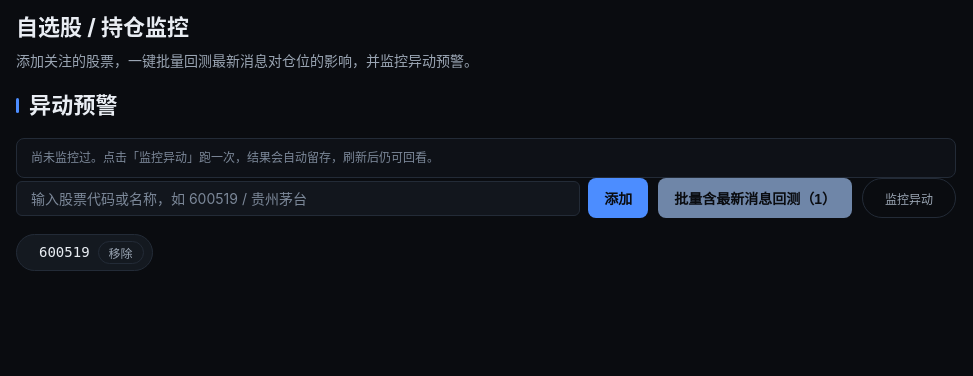
WatchlistPage 添加与移除 › 移除失败：横幅说明是「移除」失败、无重试按钮，清单保持原样
This screenshot has width=973, height=376.
Check: the text "600519" is shown, box [39,242,90,263]
Click the button with aria-label "移除 600519". click: (121, 252)
box: [98,241,144,264]
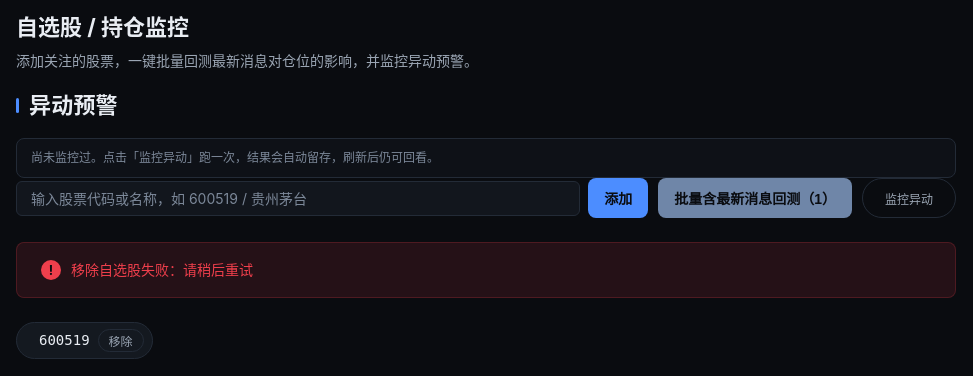
Check: the text "600519" is shown, box [39,330,90,351]
Check: the message shows "移除自选股失败：请稍后重试", box [71,261,253,278]
